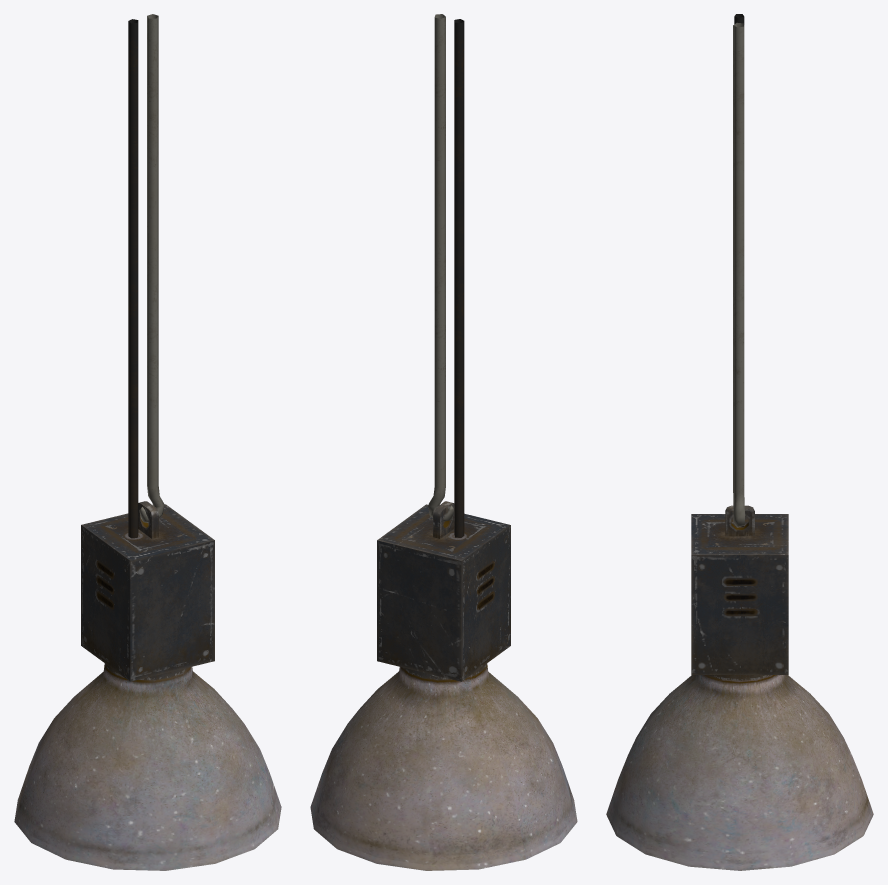
The model's file is Light_02a_snaps011.fbx.
3 renders of one model, left to right at view 1: azimuth 30°, elevation 25°; view 2: azimuth 150°, elevation 25°; view 3: azimuth 270°, elevation 25°, orthographic.
Visible parts, largest first — view 1: Light_02a_snaps011_LOD0; view 2: Light_02a_snaps011_LOD0; view 3: Light_02a_snaps011_LOD0.
Part boxes in pixels (x1,y1,x2,y2): Light_02a_snaps011_LOD0: (14,14,281,870); Light_02a_snaps011_LOD0: (310,14,577,870); Light_02a_snaps011_LOD0: (606,14,873,870).
Size of what is drawn, in the model's own units: 50.09 by 163 by 50.09.
